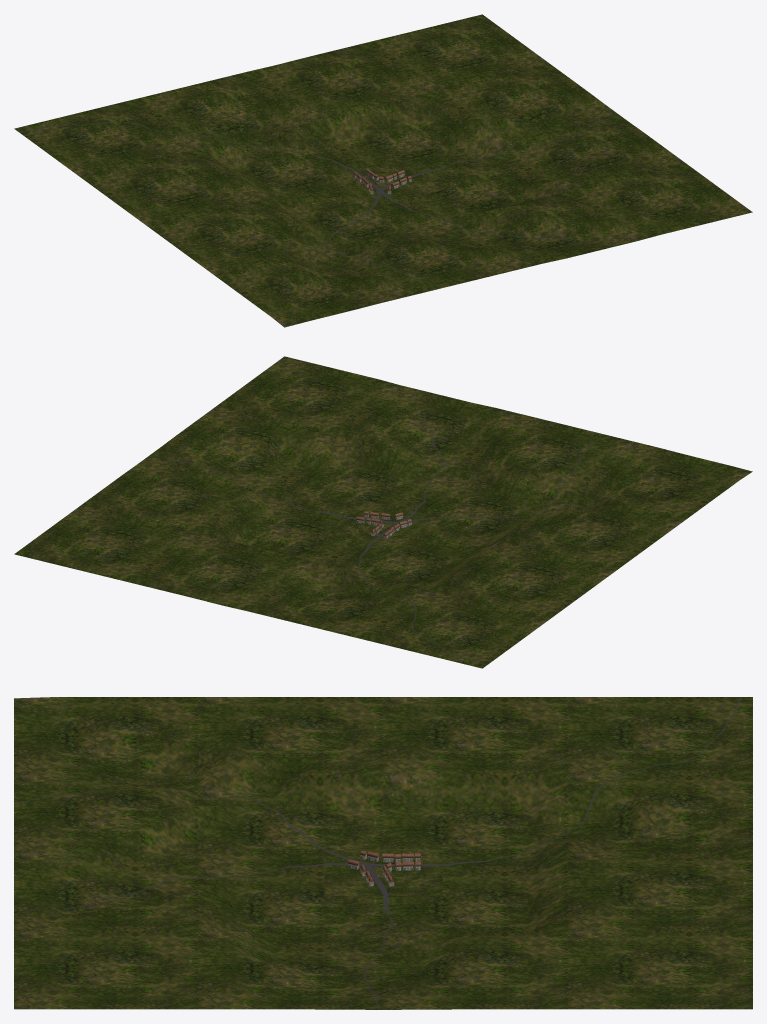
Rendered from valleyvillage.glb.
3 renders of one model, top to bottom at view 1: azimuth 30°, elevation 25°; view 2: azimuth 150°, elevation 25°; view 3: azimuth 270°, elevation 25°, orthographic. The views are drawn at different scales.
Parts seen in each view (by area): view 1: largeGround, ground; view 2: largeGround, ground; view 3: largeGround, ground.
Part boxes in pixels (<box>): largeGround: <box>14,14,752,327</box>; ground: <box>325,158,441,208</box>; largeGround: <box>14,356,752,668</box>; ground: <box>324,500,442,550</box>; largeGround: <box>14,697,752,1009</box>; ground: <box>324,846,442,895</box>.
Size of the model in its own units: 150 by 4 by 150.
6 materials, 6 textured.
